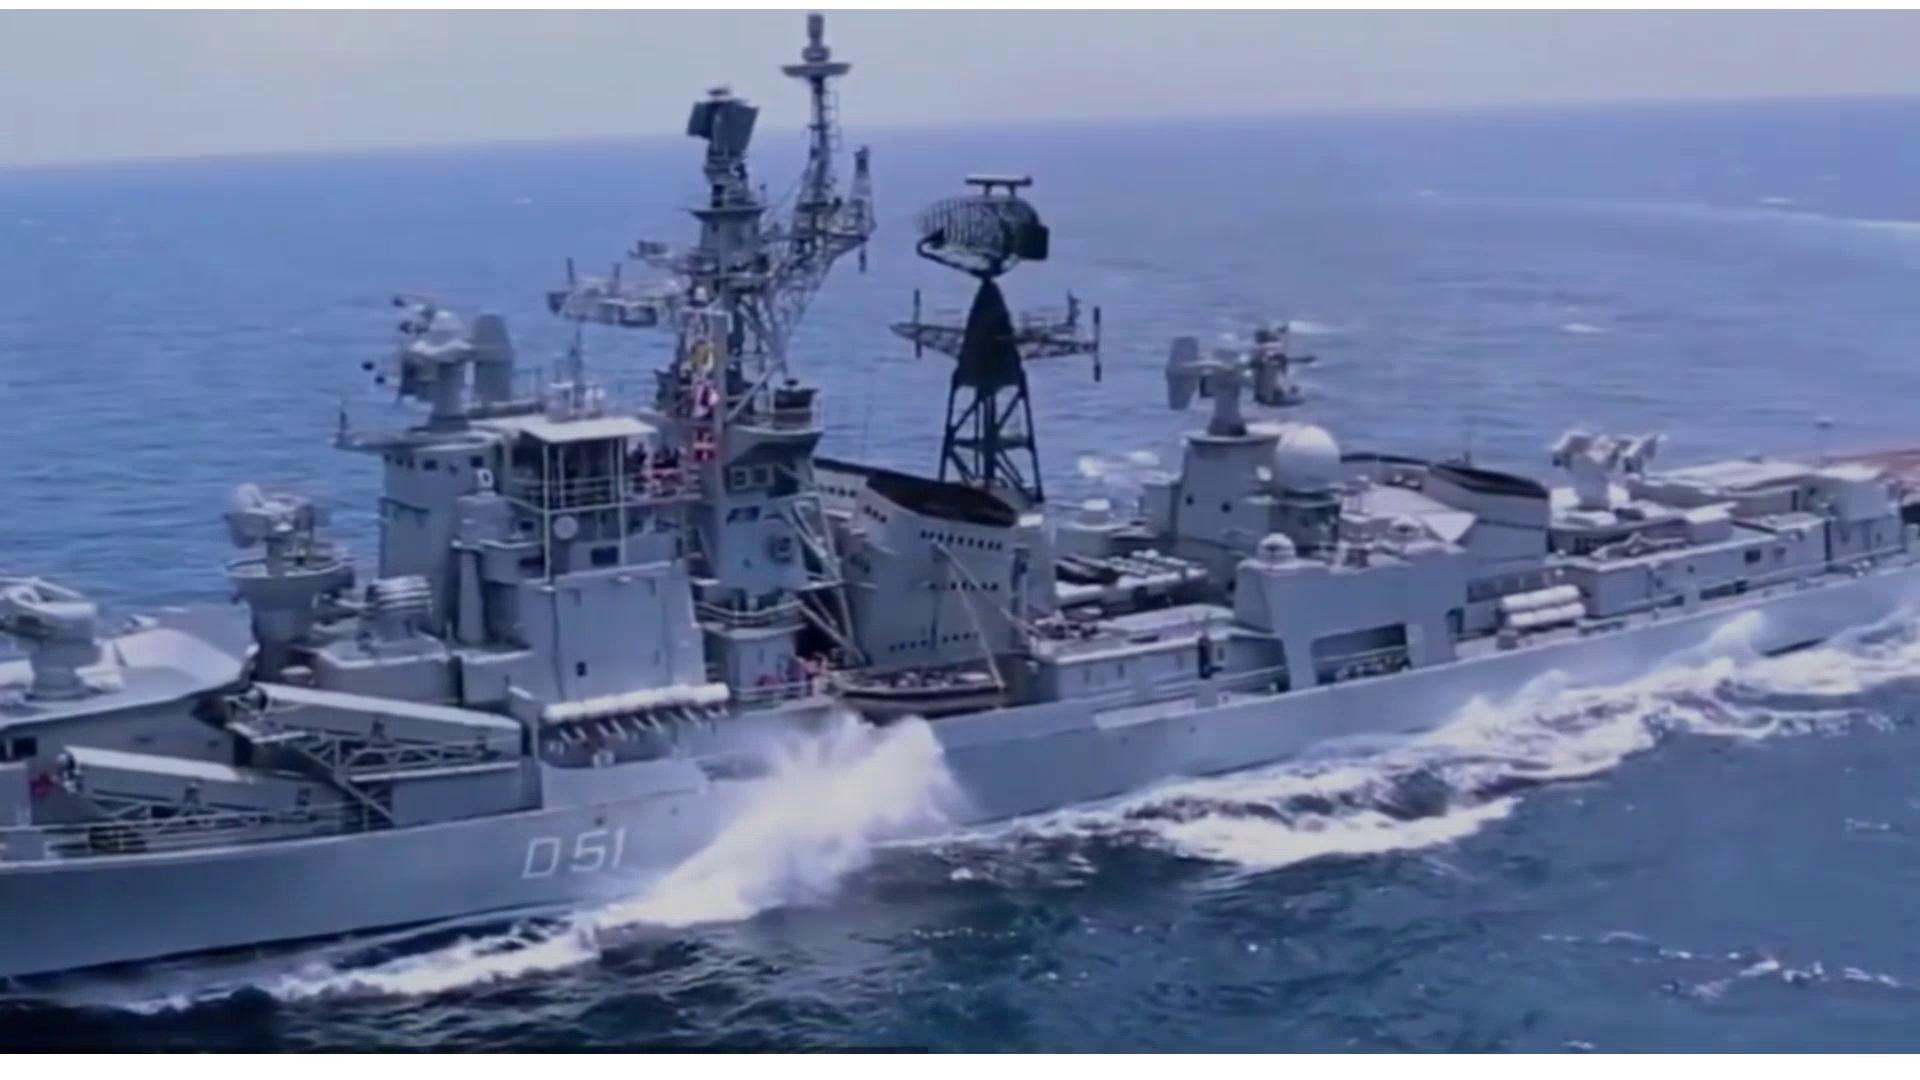OCR: (492, 808, 644, 894)
